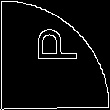P_W: (30, 37, 80, 73)
